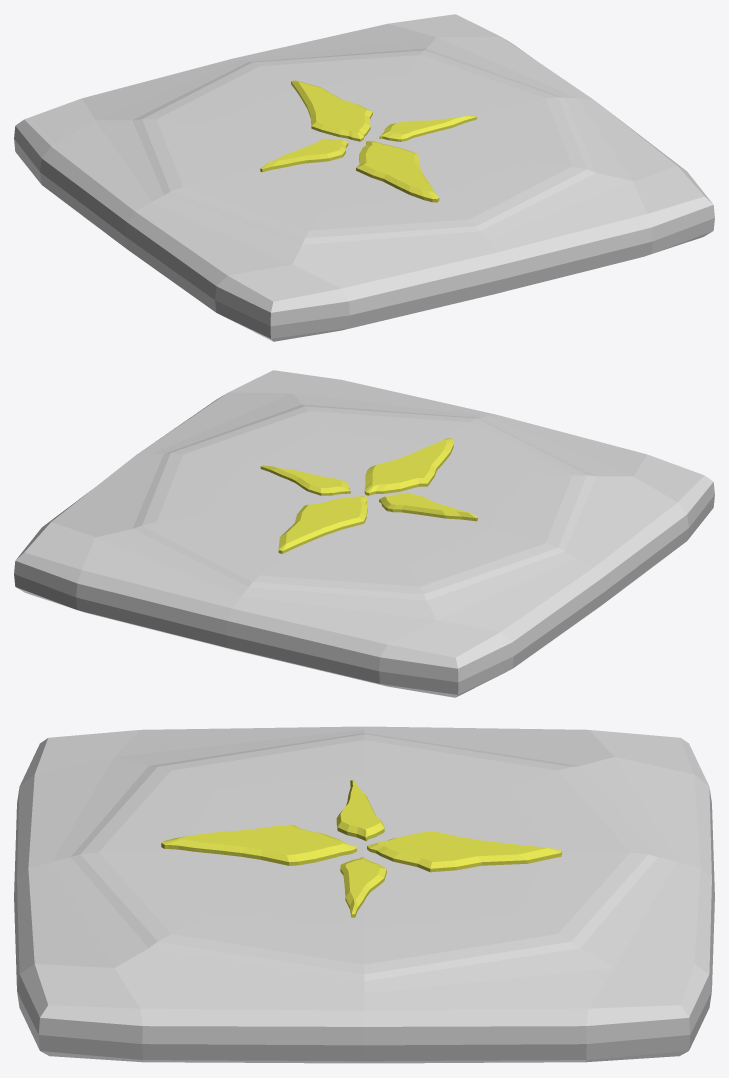
Rendered from TeleportStone.fbx.
The picture shows the model from 3 angles, top to bottom: view 1: azimuth 30°, elevation 25°; view 2: azimuth 150°, elevation 25°; view 3: azimuth 270°, elevation 25°; orthographic projection. The views are drawn at different scales.
Visible parts, largest first — view 1: Plane; view 2: Plane; view 3: Plane.
Part boxes in pixels (x1=…): Plane: x1=14, y1=14, x2=714, y2=341; Plane: x1=14, y1=370, x2=714, y2=697; Plane: x1=14, y1=726, x2=714, y2=1063.
Bounding box in the file's own units: 199 × 28.41 × 199.
